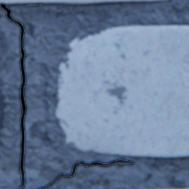brick: (56, 25, 188, 155), (0, 30, 9, 128), (0, 0, 152, 3), (0, 186, 24, 188), (156, 187, 188, 188)
crack: (0, 2, 26, 186), (35, 157, 133, 188)
